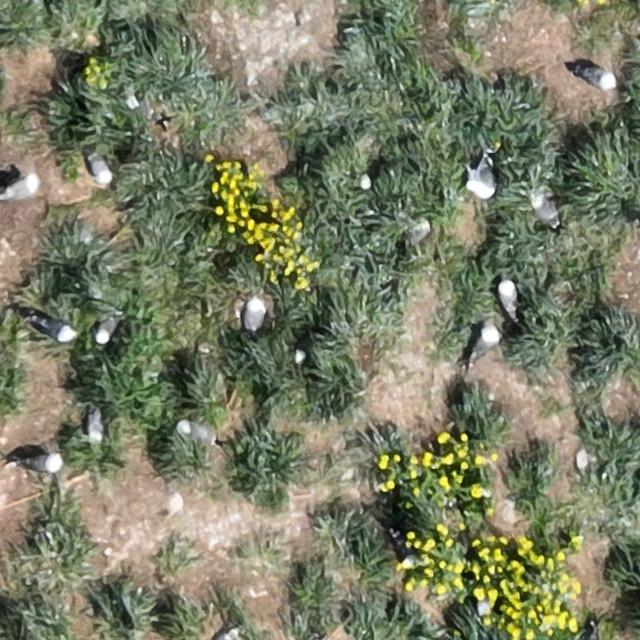umineko: (468, 150, 501, 202), (125, 94, 163, 121), (34, 318, 74, 342), (4, 176, 38, 200), (578, 66, 615, 88), (472, 327, 498, 358), (22, 453, 64, 472), (181, 423, 217, 444), (533, 197, 559, 226), (242, 297, 262, 330), (89, 156, 111, 184), (95, 315, 116, 344), (392, 536, 412, 566), (499, 280, 516, 312), (87, 410, 103, 440), (212, 628, 237, 640)
